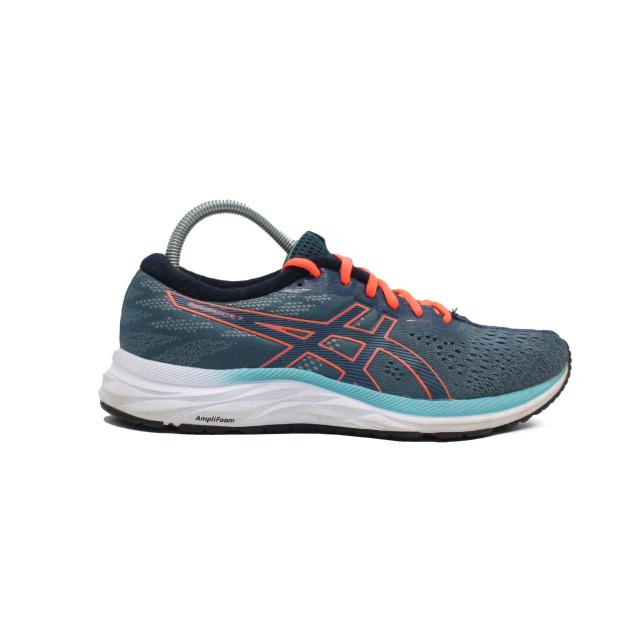heel: (116, 258, 165, 356)
midsole: (98, 350, 569, 442)
uppersole: (146, 228, 576, 399)
